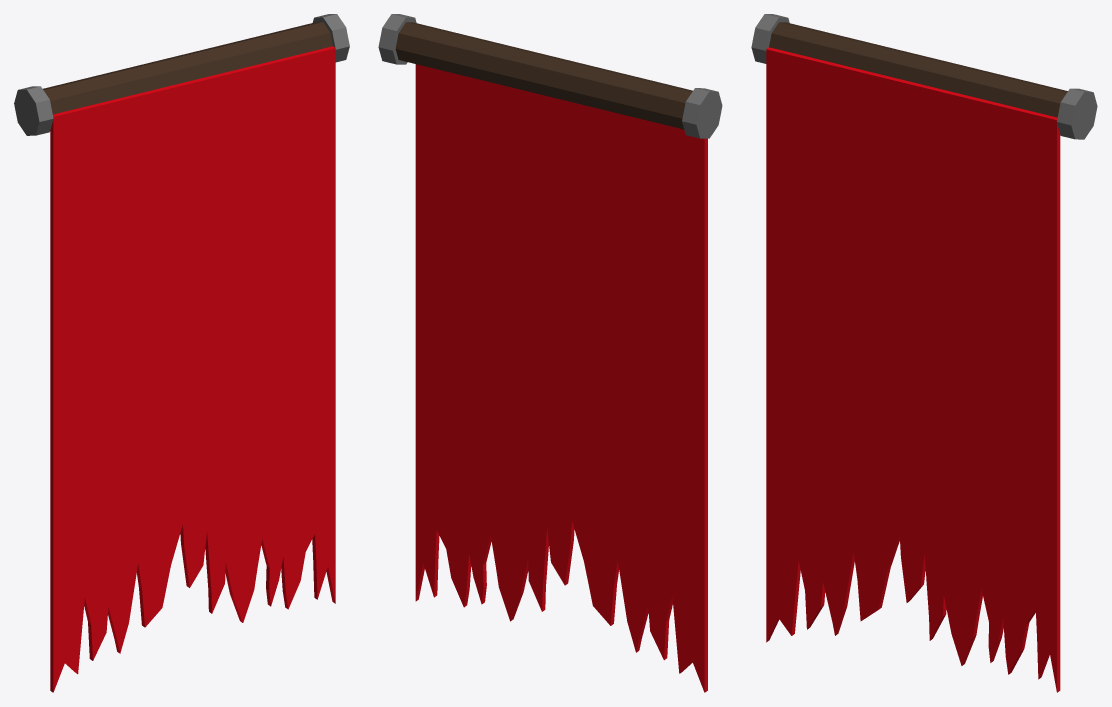
Rendered from Burned_Banner.fbx.
The picture shows the model from 3 angles, left to right: view 1: azimuth 30°, elevation 25°; view 2: azimuth 150°, elevation 25°; view 3: azimuth 330°, elevation 25°; orthographic projection. The views are drawn at different scales.
Visible parts, largest first — view 1: Banner, Handle, Bolts; view 2: Banner, Handle, Bolts; view 3: Banner, Handle, Bolts.
Part boxes in pixels (bbox=[...]): Banner: bbox=[50, 46, 335, 692]; Handle: bbox=[43, 22, 332, 114]; Bolts: bbox=[14, 14, 349, 135]; Banner: bbox=[415, 64, 707, 692]; Handle: bbox=[395, 22, 692, 129]; Bolts: bbox=[378, 14, 722, 138]; Banner: bbox=[766, 47, 1060, 692]; Handle: bbox=[769, 22, 1067, 117]; Bolts: bbox=[751, 14, 1097, 139].
Bounding box in the file's own units: 1.1 × 2.02 × 0.1562.
